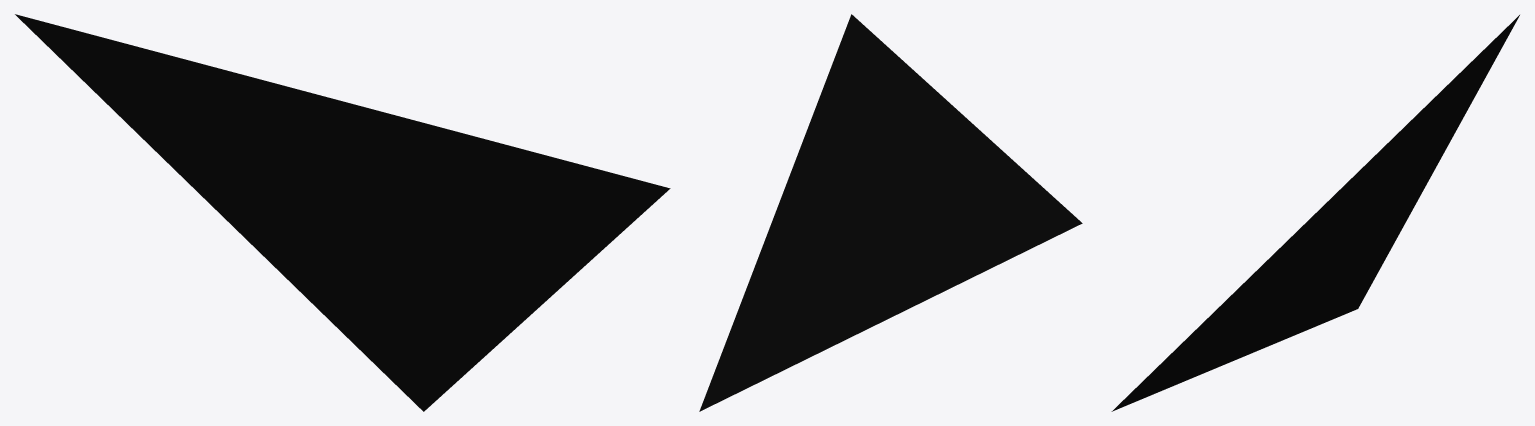
3 renders of one model, left to right at view 1: azimuth 30°, elevation 25°; view 2: azimuth 150°, elevation 25°; view 3: azimuth 330°, elevation 25°, orthographic. The views are drawn at different scales.
Size of the model in its own units: 1.15 by 0.728 by 3.31.
Materials: 1 (1 with a texture image).
